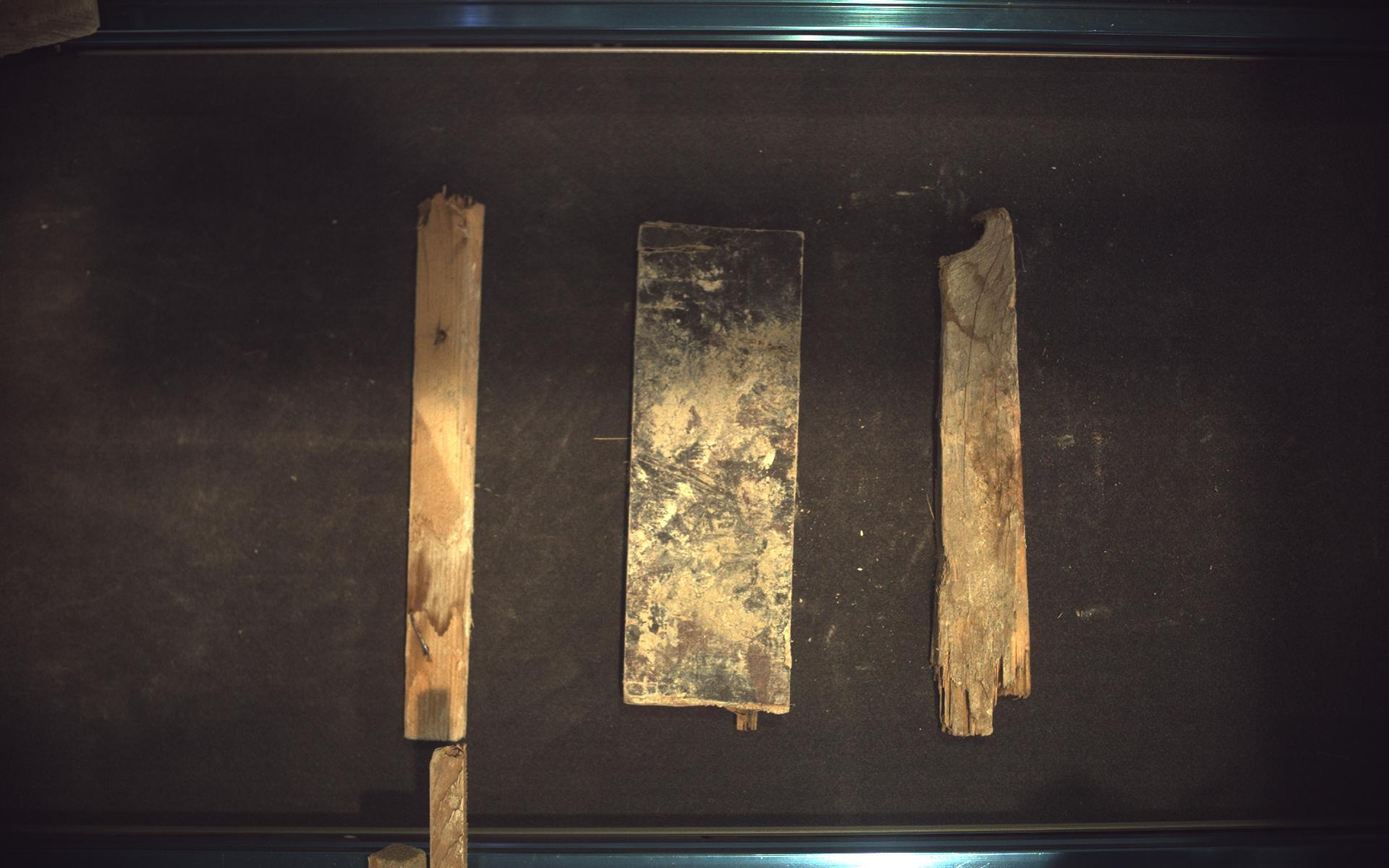wood: (624, 222, 804, 732), (934, 208, 1033, 738), (404, 191, 485, 744), (430, 744, 468, 868), (368, 845, 428, 868)
